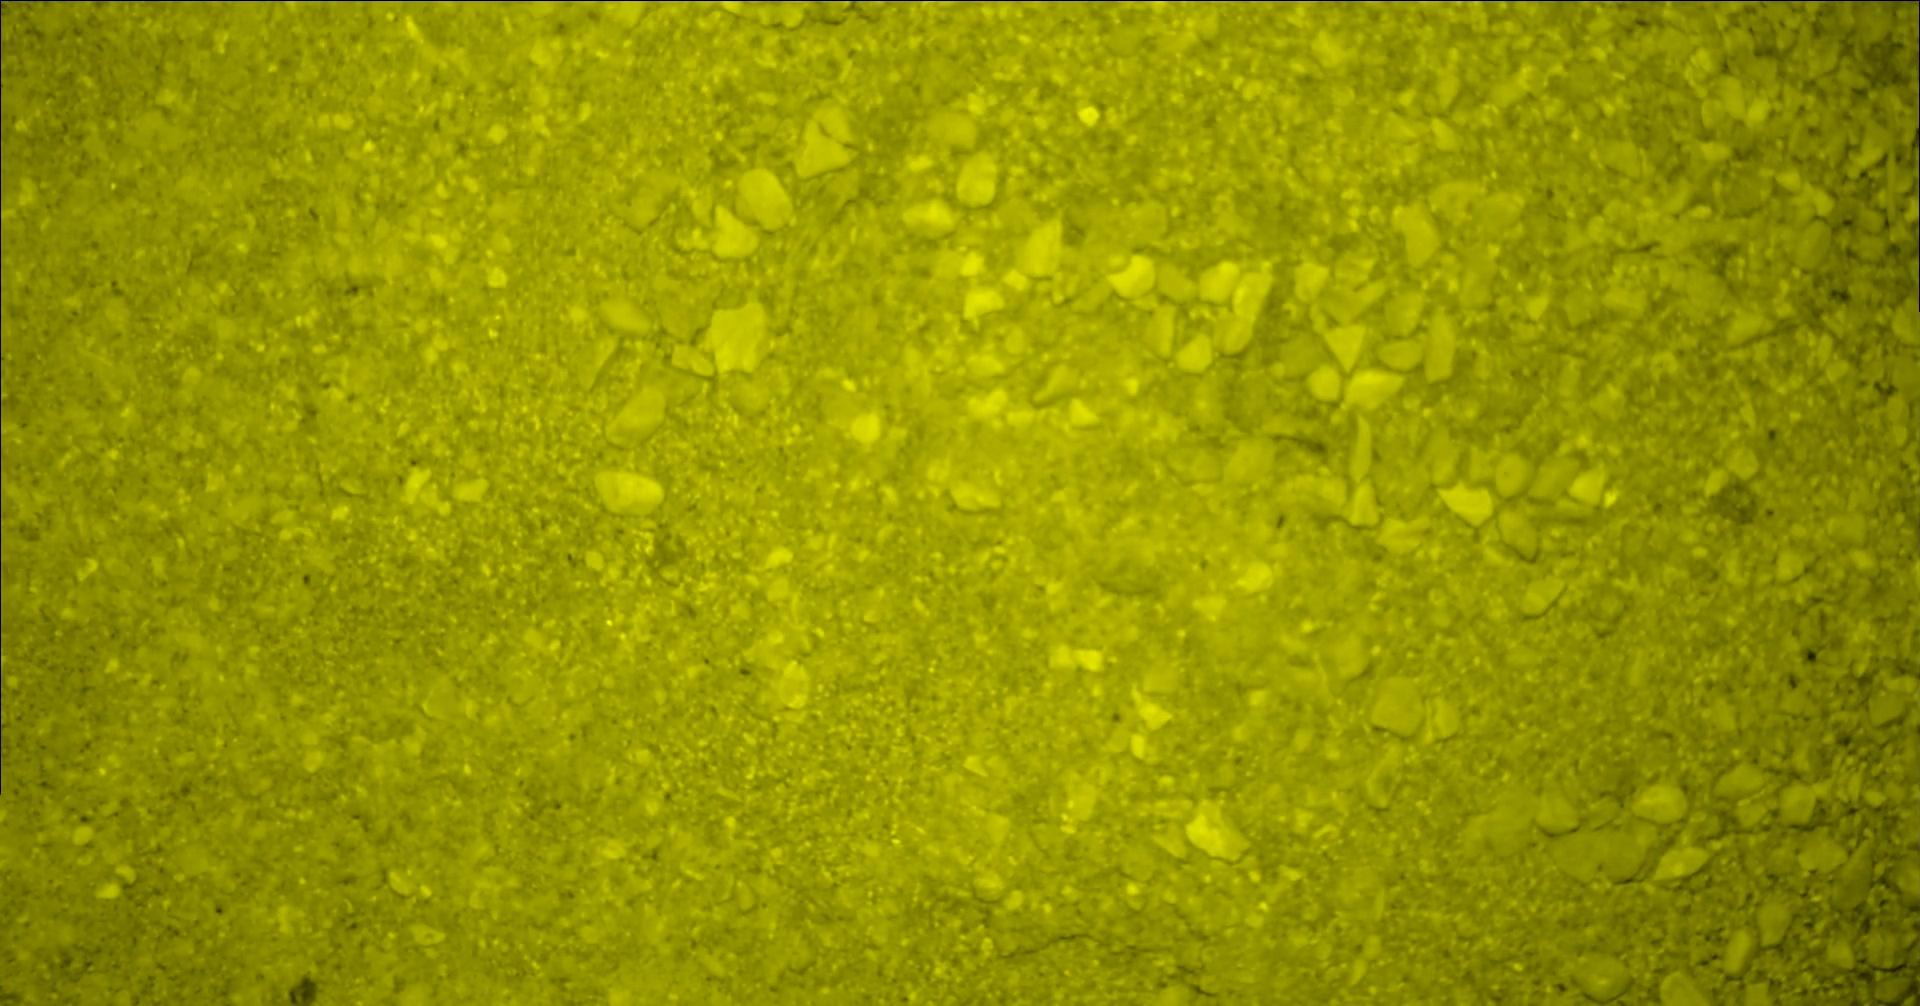ant: (1853, 0, 1920, 4)
